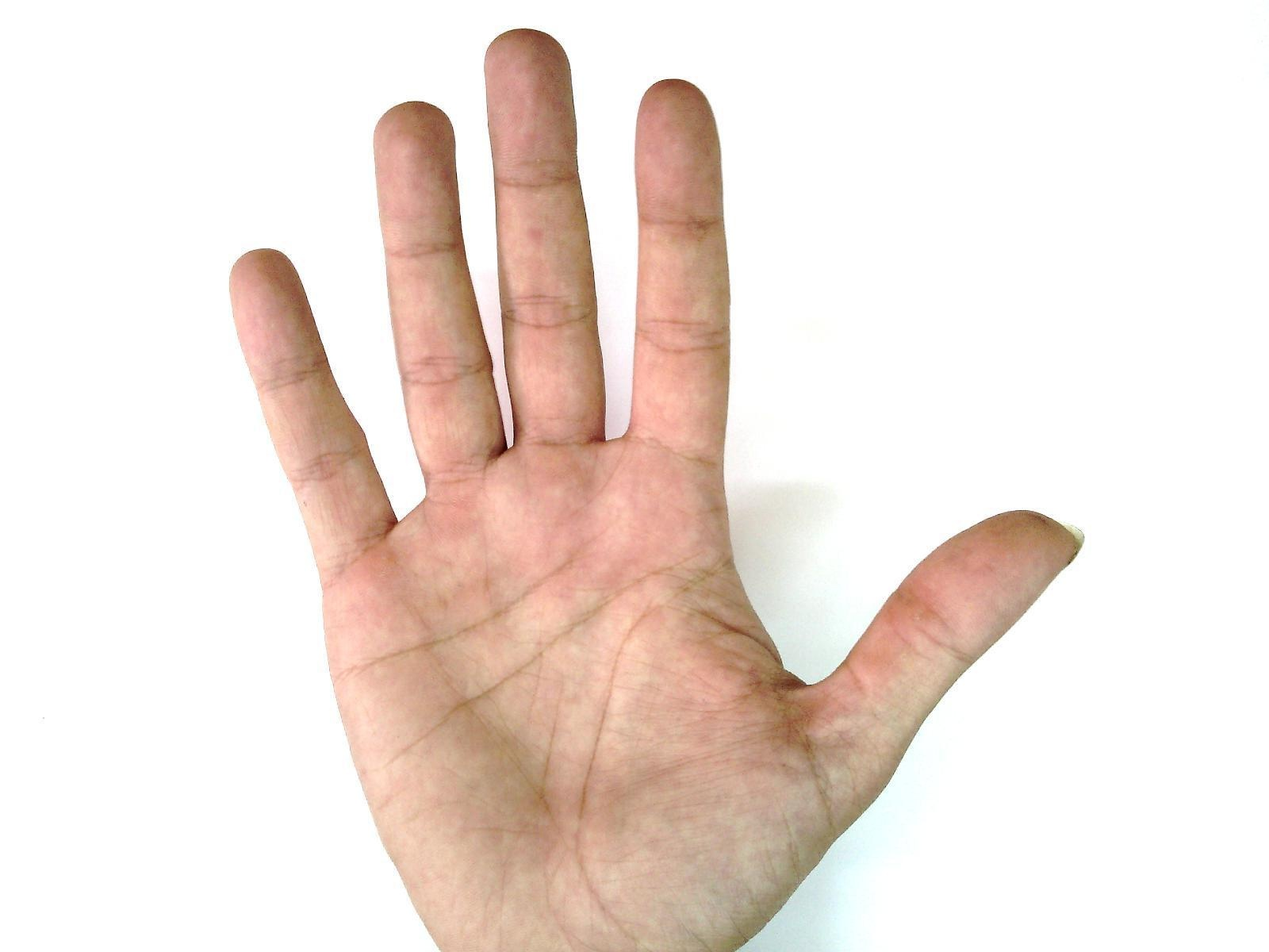open_palm: (225, 26, 1087, 951)
